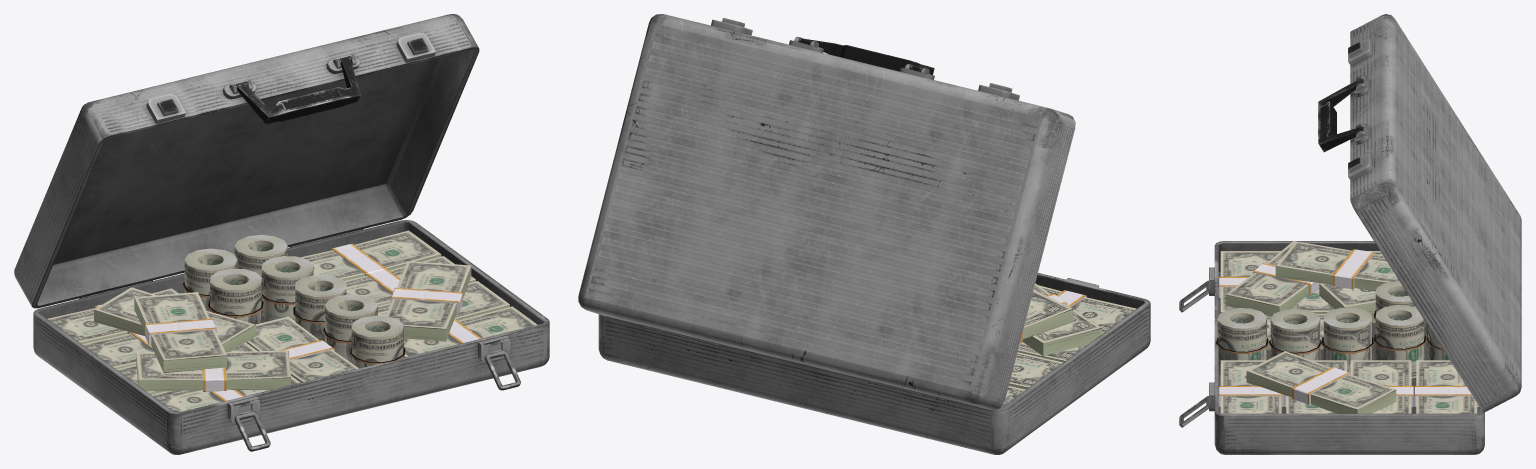
Rendered from 09_case_with_money_open.glb.
3 renders of one model, left to right at view 1: azimuth 30°, elevation 25°; view 2: azimuth 150°, elevation 25°; view 3: azimuth 270°, elevation 25°, orthographic. The views are drawn at different scales.
Visible parts, largest first — view 1: Intact_Whole; view 2: Intact_Whole; view 3: Intact_Whole.
Part boxes in pixels (left/top/right/bottom): Intact_Whole: left=14, top=14, right=549, bottom=454; Intact_Whole: left=578, top=14, right=1150, bottom=454; Intact_Whole: left=1179, top=14, right=1521, bottom=454.
Size of what is drawn, in the model's own units: 0.5543 by 0.401 by 0.4571.
6 materials, 6 textured.
